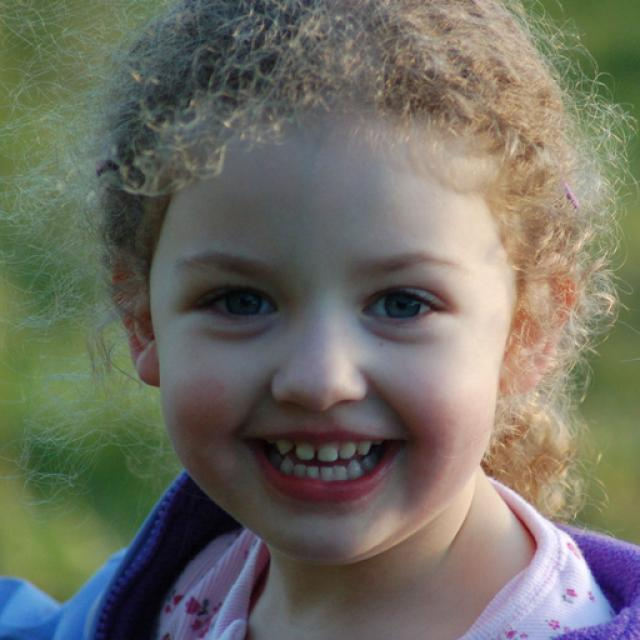happy: (151, 118, 505, 560)
